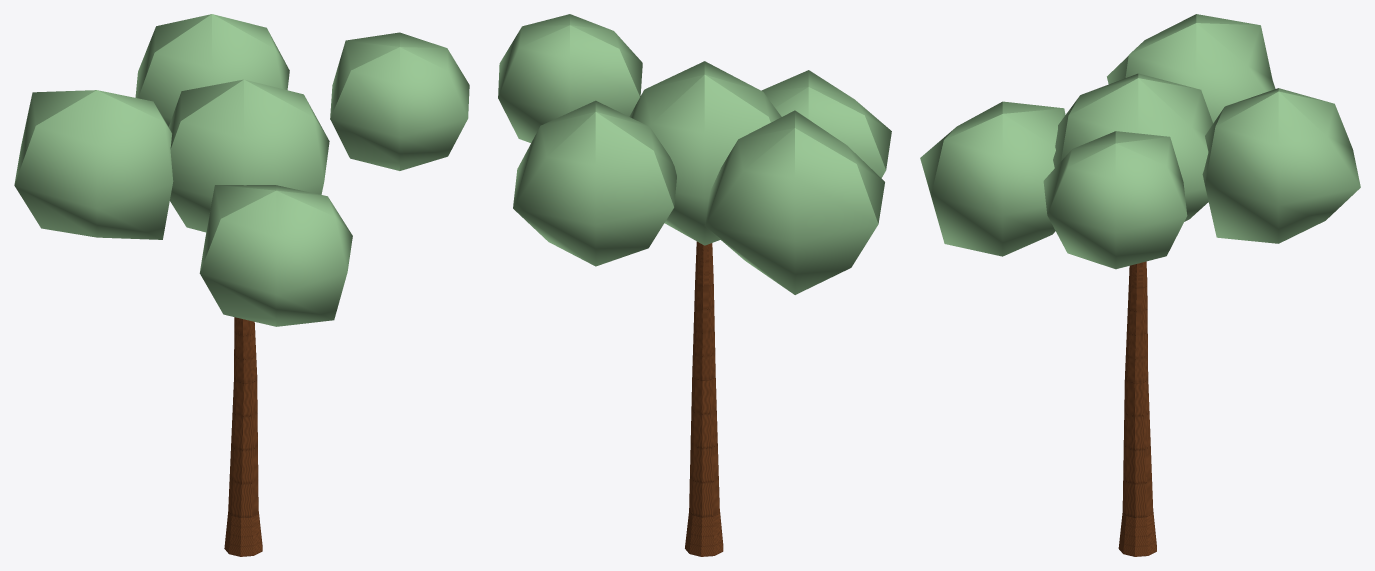
Rendered from oak_young.glb.
3 views of the same model, side by side, from view 1: azimuth 30°, elevation 25°; view 2: azimuth 150°, elevation 25°; view 3: azimuth 270°, elevation 25° (orthographic).
Parts seen in each view (by area): view 1: oak-young; view 2: oak-young; view 3: oak-young.
Part boxes in pixels (left/top/right/bottom): oak-young: left=14, top=14, right=469, bottom=556; oak-young: left=498, top=14, right=891, bottom=556; oak-young: left=920, top=14, right=1360, bottom=556.
Bounding box in the file's own units: 2.8 × 3.06 × 2.57.
Materials: 2 (1 with a texture image).
